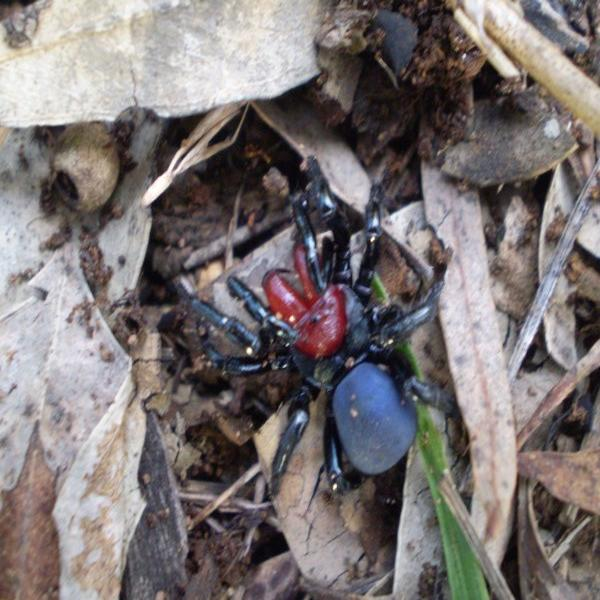Red Headed Mouse Spider: (192, 173, 453, 492)
